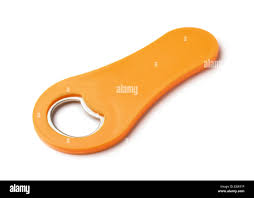bottleopener: (32, 26, 221, 156)
